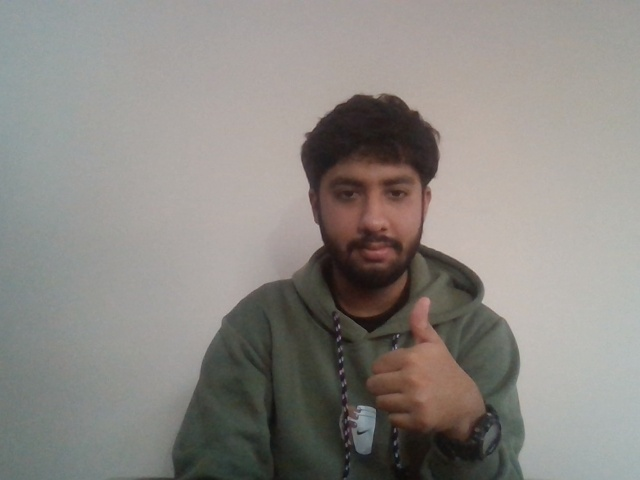Yes: (357, 298, 470, 435)
